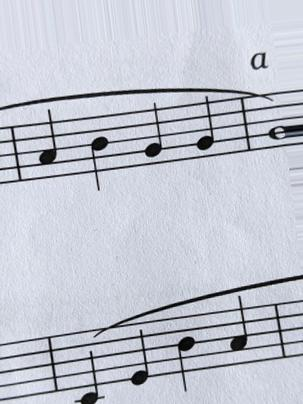note: (165, 315, 201, 396), (84, 109, 114, 197), (70, 335, 107, 403), (34, 108, 63, 182), (121, 325, 155, 388), (226, 296, 251, 374), (193, 97, 220, 163), (141, 100, 168, 165)
